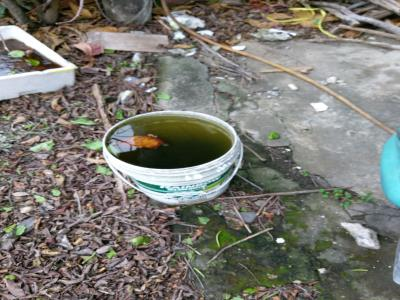box: (1, 23, 79, 102)
bucket: (99, 109, 247, 209)
